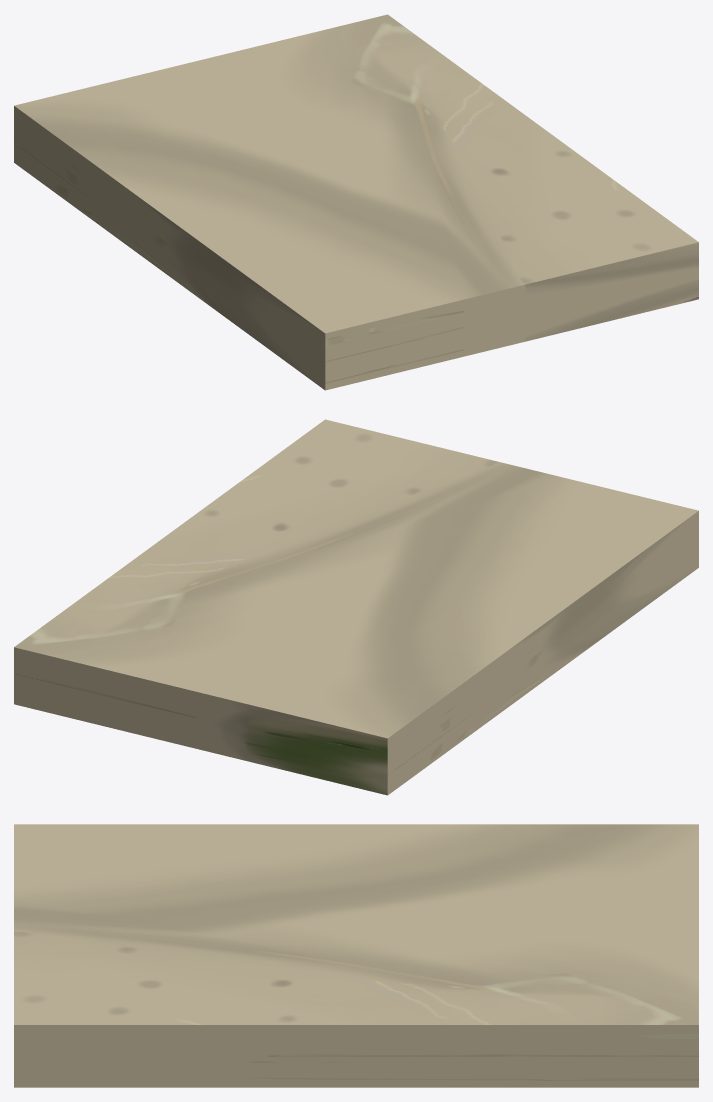
Rendered from ground.fbx.
The picture shows the model from 3 angles, top to bottom: view 1: azimuth 30°, elevation 25°; view 2: azimuth 150°, elevation 25°; view 3: azimuth 270°, elevation 25°; orthographic projection. The views are drawn at different scales.
Parts seen in each view (by area): view 1: ground; view 2: ground; view 3: ground.
Part boxes in pixels (x1,y1,x2,y2): ground: (14,14,698,390); ground: (14,419,698,795); ground: (14,824,698,1087).
Size of the model in its own units: 13535 by 1975 by 19521.
1 material, 1 textured.
